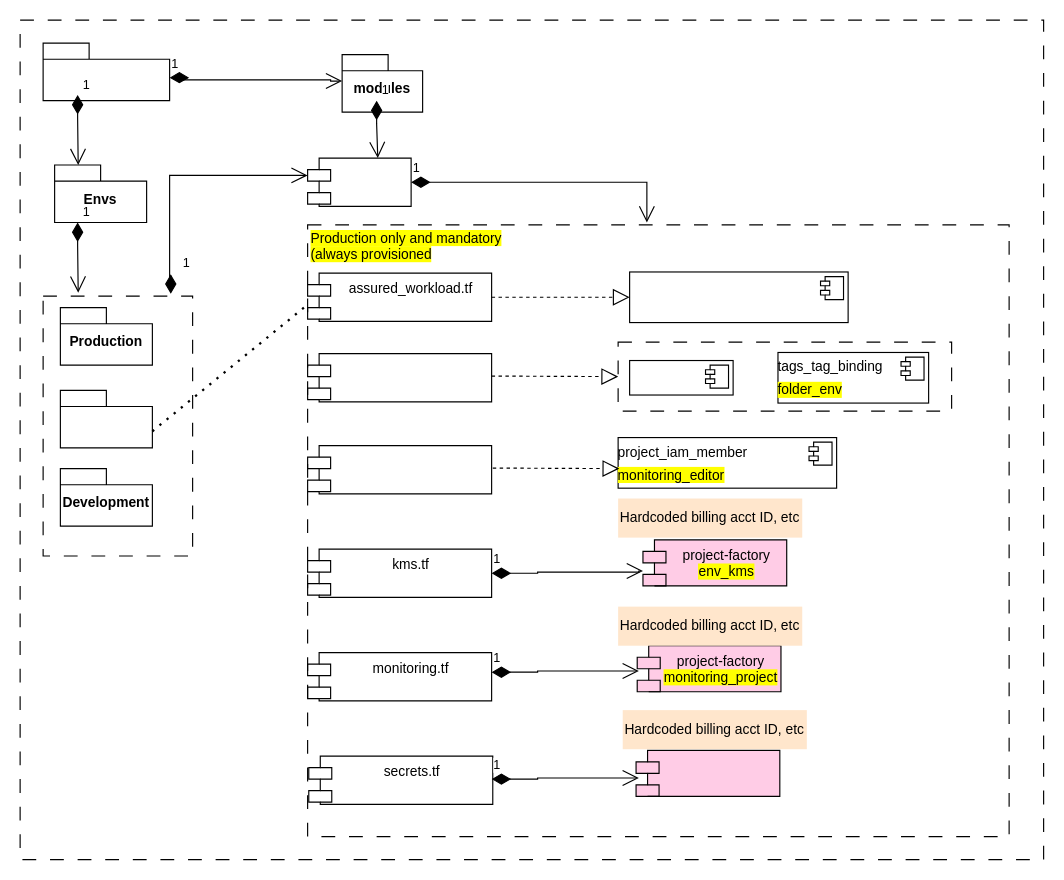
The diagram is 1064 pixels wide and 880 high, and some of its shapes have lost their labels. The centre of each missing label's shape, as x and y in pixels:
2-environments: (106,71)
assured_workloads_workload workload: (738,297)
env-baseline: (358,181)
folder : env: (680,377)
folders.tf: (399,377)
iam.tf: (399,469)
Non-Prod: (105,418)
project-factory env_secrets: (707,772)
